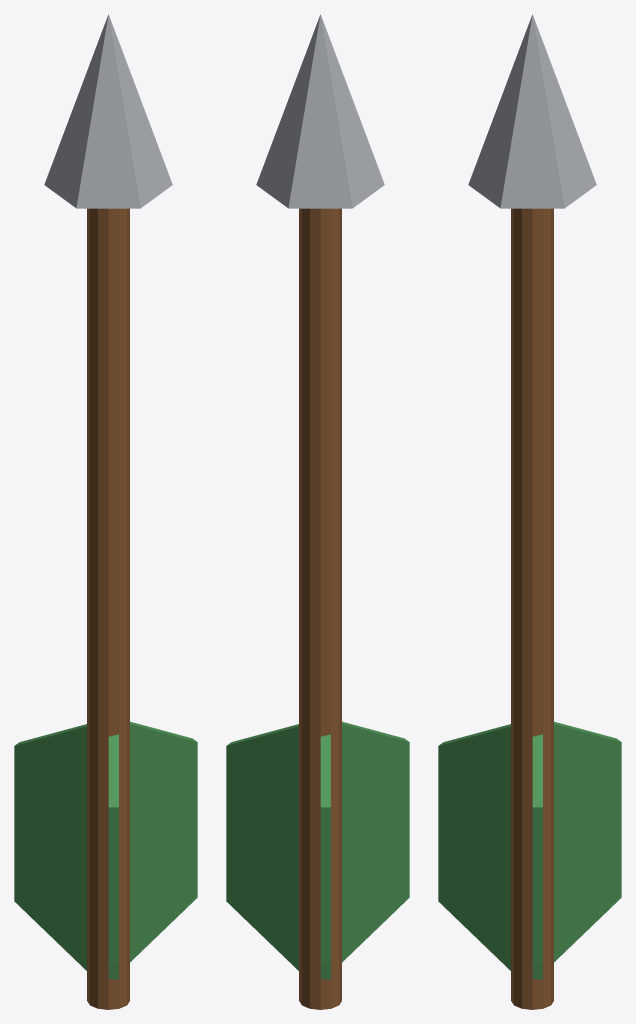
The model's file is Arrow.fbx.
The picture shows the model from 3 angles, left to right: view 1: azimuth 30°, elevation 25°; view 2: azimuth 150°, elevation 25°; view 3: azimuth 270°, elevation 25°; orthographic projection.
Parts seen in each view (by area): view 1: ArrowModel; view 2: ArrowModel; view 3: ArrowModel.
Part boxes in pixels (x1,y1,x2,y2): ArrowModel: (14, 14, 197, 1009); ArrowModel: (226, 14, 409, 1009); ArrowModel: (438, 14, 621, 1009).
Size of the model in its own units: 19.04 by 127 by 21.38.
